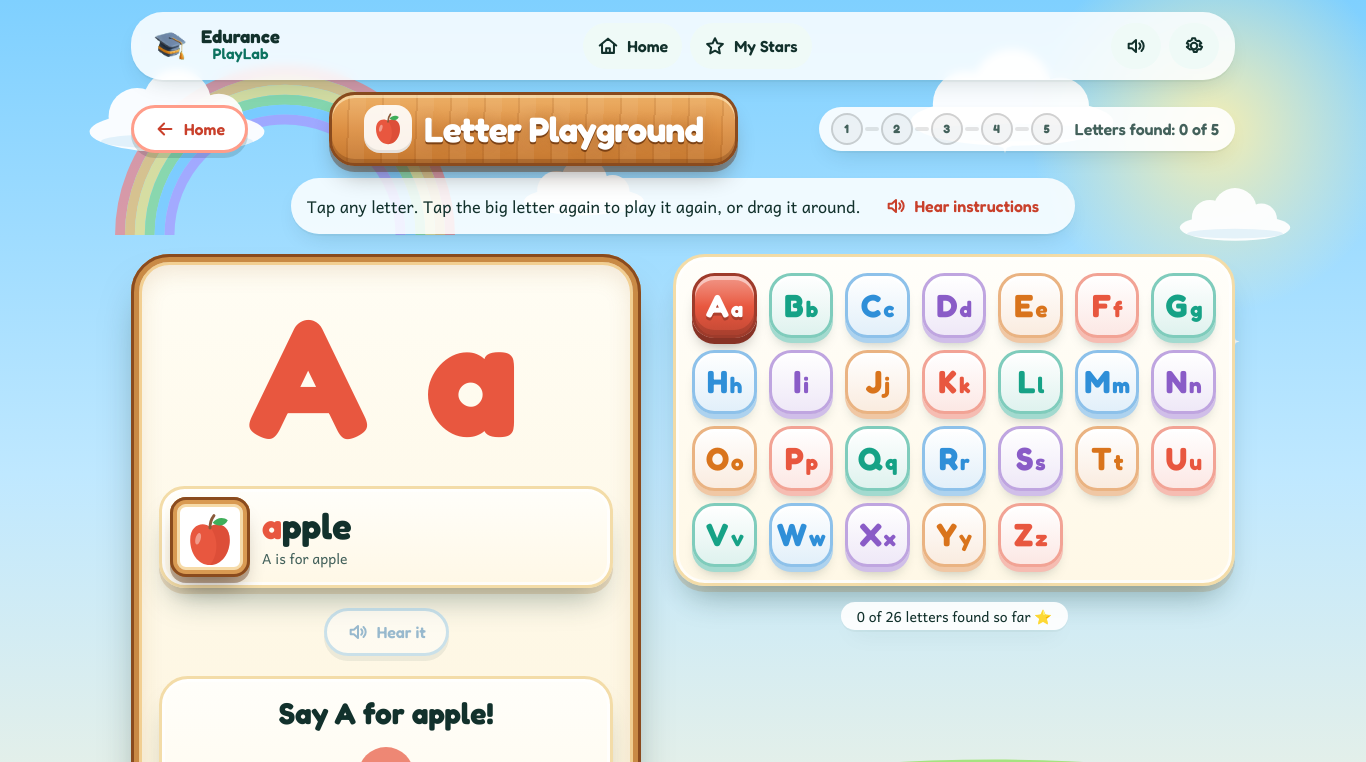
Test: Letter Playground: the guided lesson › tapping a letter in the grid starts that letter’s lesson
Click the button "C c".
click(878, 306)  # box [846, 273, 910, 338]
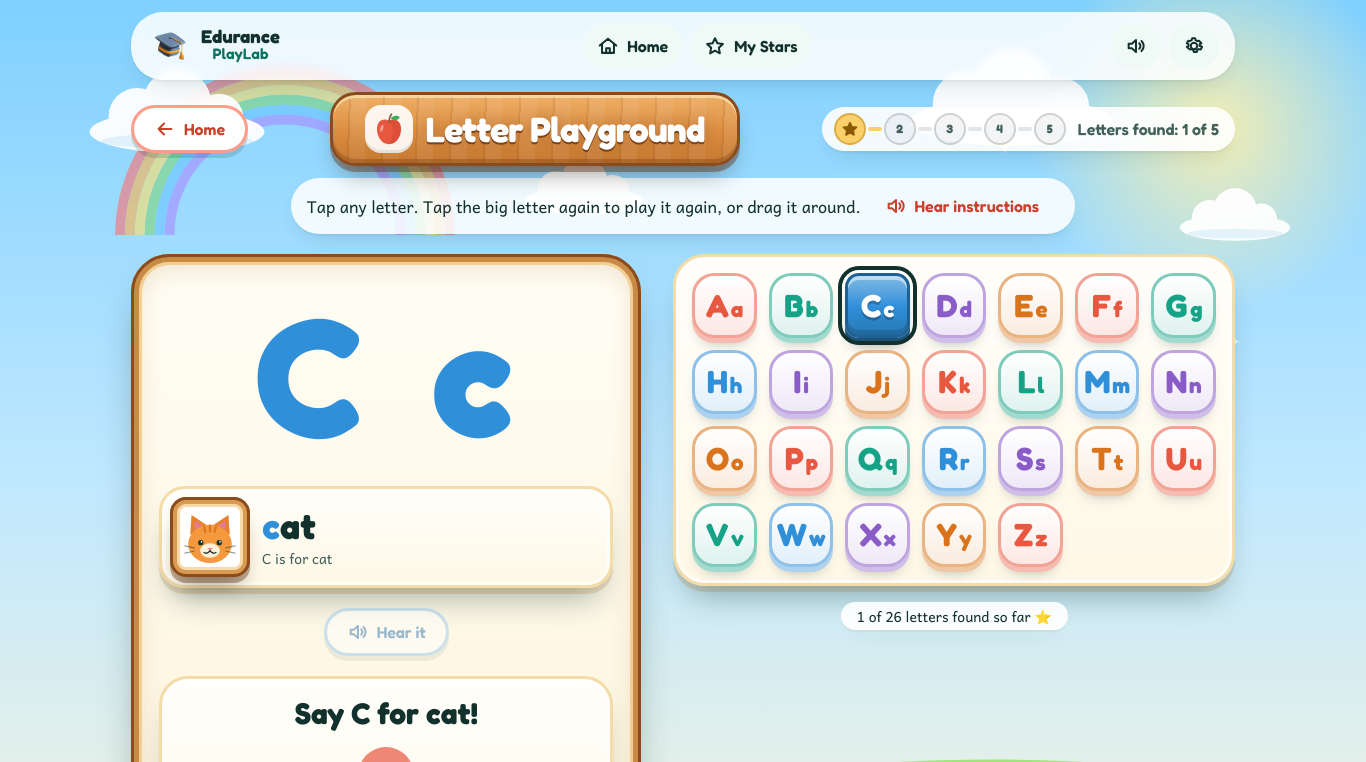
Expected: the text with test id "lesson-instruction" reads "Say C for cat!", [295, 695, 478, 731]
Expected: the text "C is for cat" is shown, [262, 548, 333, 568]
